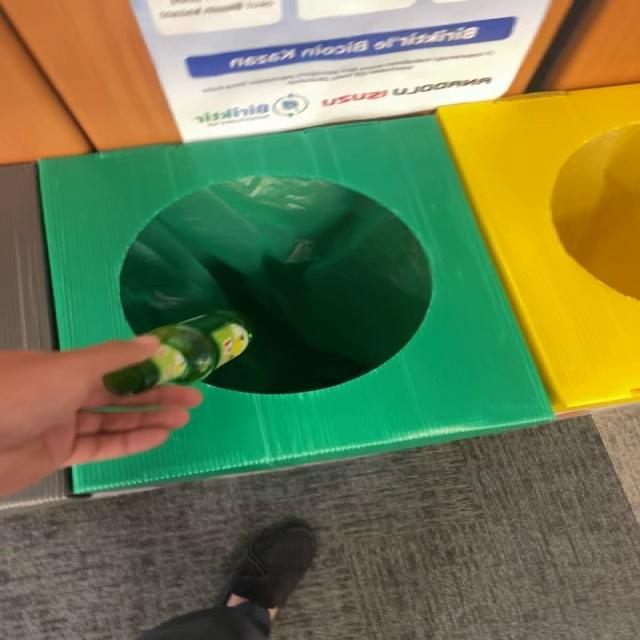glass: (103, 311, 252, 396)
